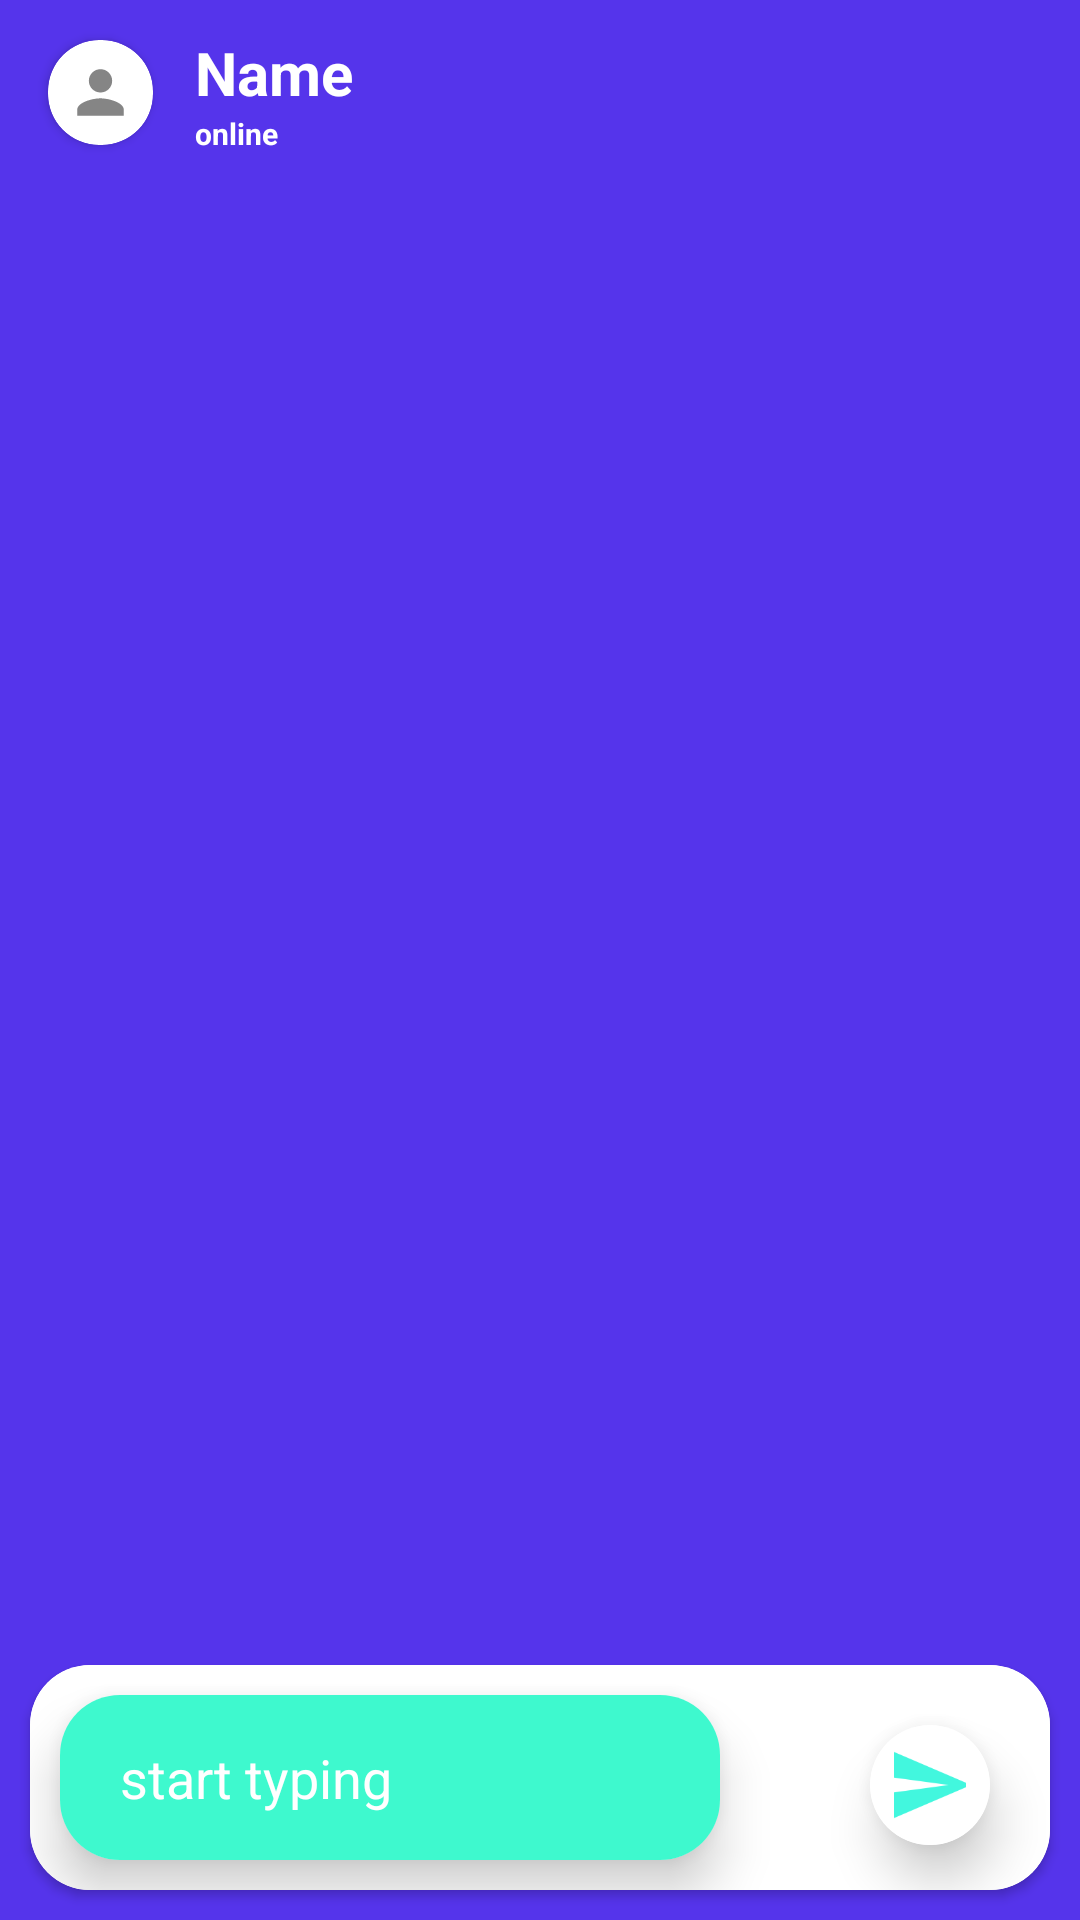

Icons on this 1080*1920 Android screen, each with the point to tap as (x=x, y=y):
person: (x=100, y=92)
send: (x=942, y=1785)
